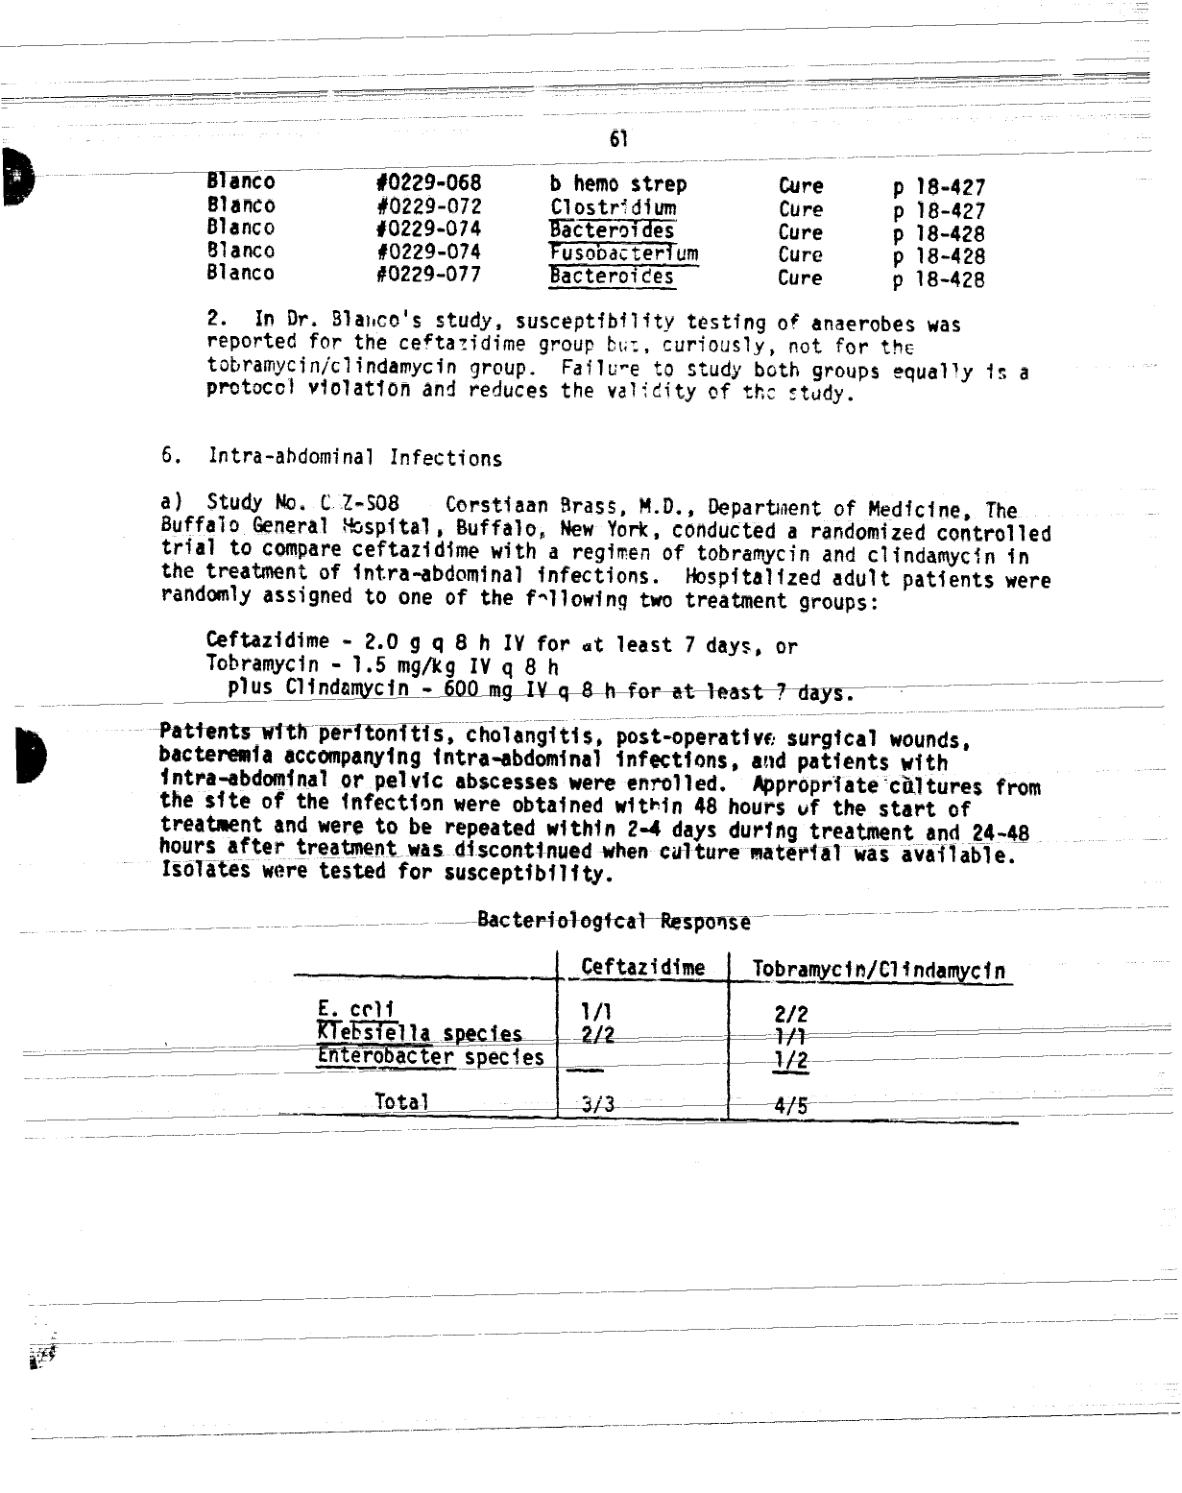nolines: (204, 168, 989, 292)
partial_lined: (287, 948, 1023, 1128)
